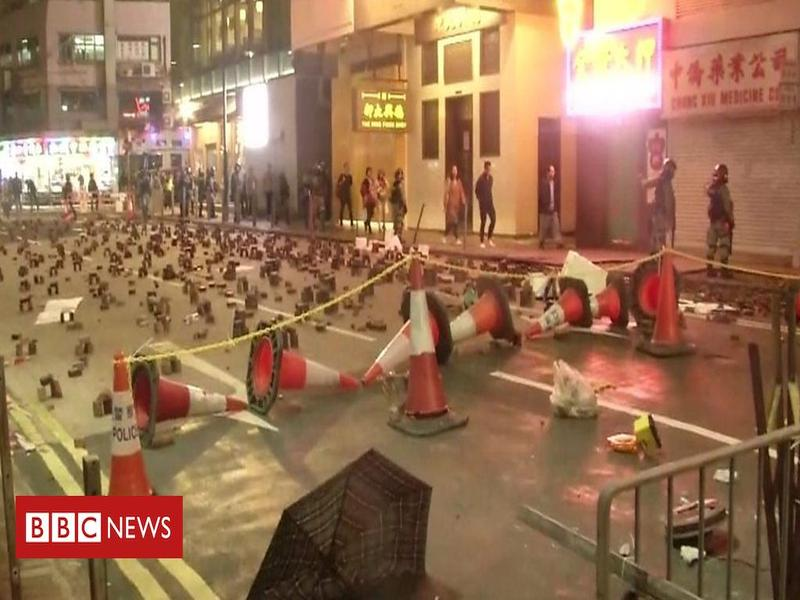Cone: (634, 252, 698, 359)
